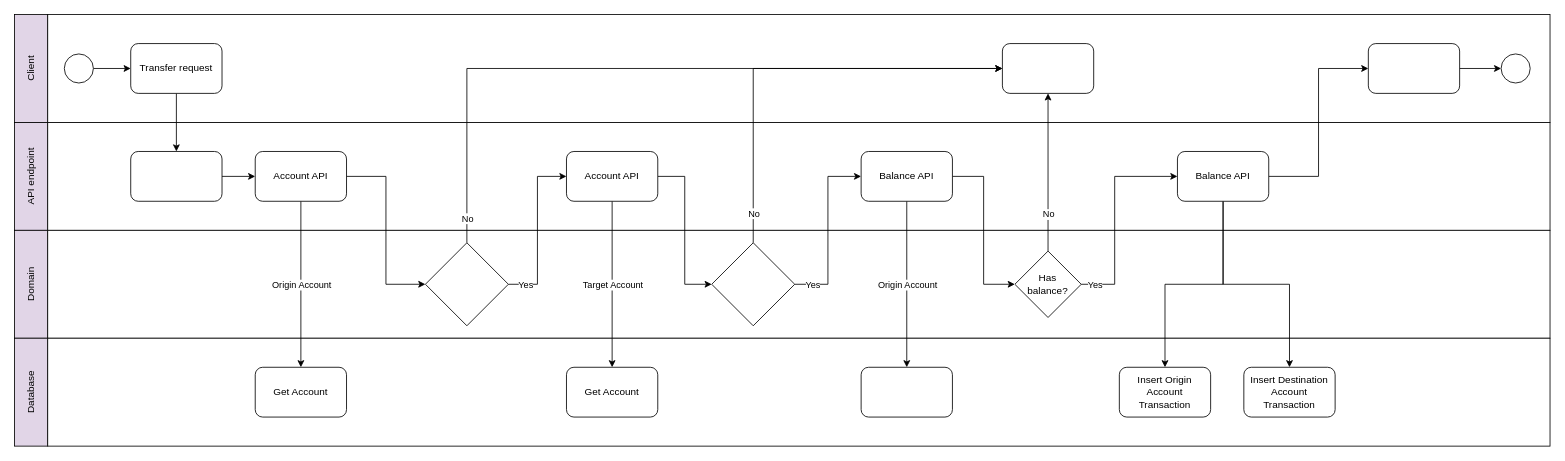
The diagram is 1565 pixels wide and 461 high, and some of its shapes have lost their labels. Each missing label, with the centre of its shape:
200: Success: (x=1414, y=68)
400: Bad request: (x=1048, y=68)
Get Account Balance: (x=906, y=391)
Origin Account exists?: (x=466, y=284)
Target Account exists?: (x=753, y=284)
Transfer API: (x=176, y=176)
